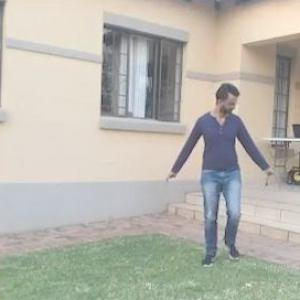land: (156, 70, 284, 279)
